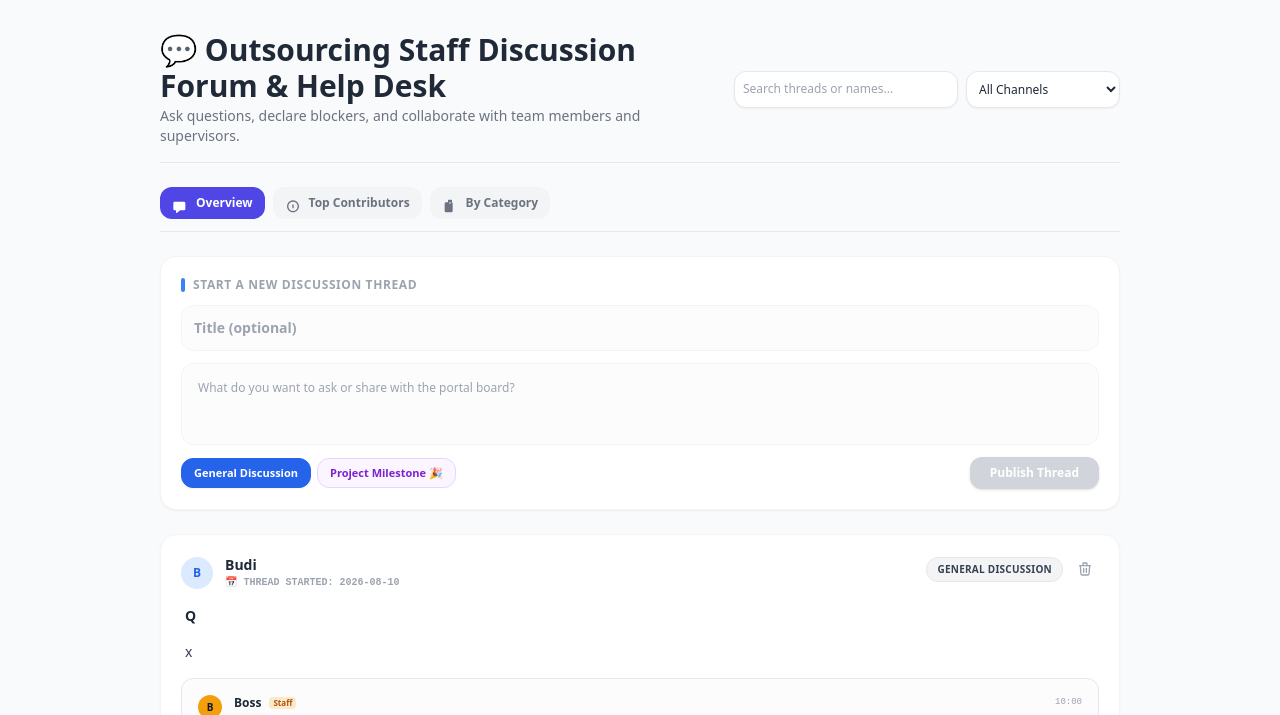
Test: ContributionsView › the Top Contributors tab ranks users by threads + replies
This screenshot has width=1280, height=715.
Click the tab "Top Contributors": {"x": 347, "y": 203} [272,187,422,219]
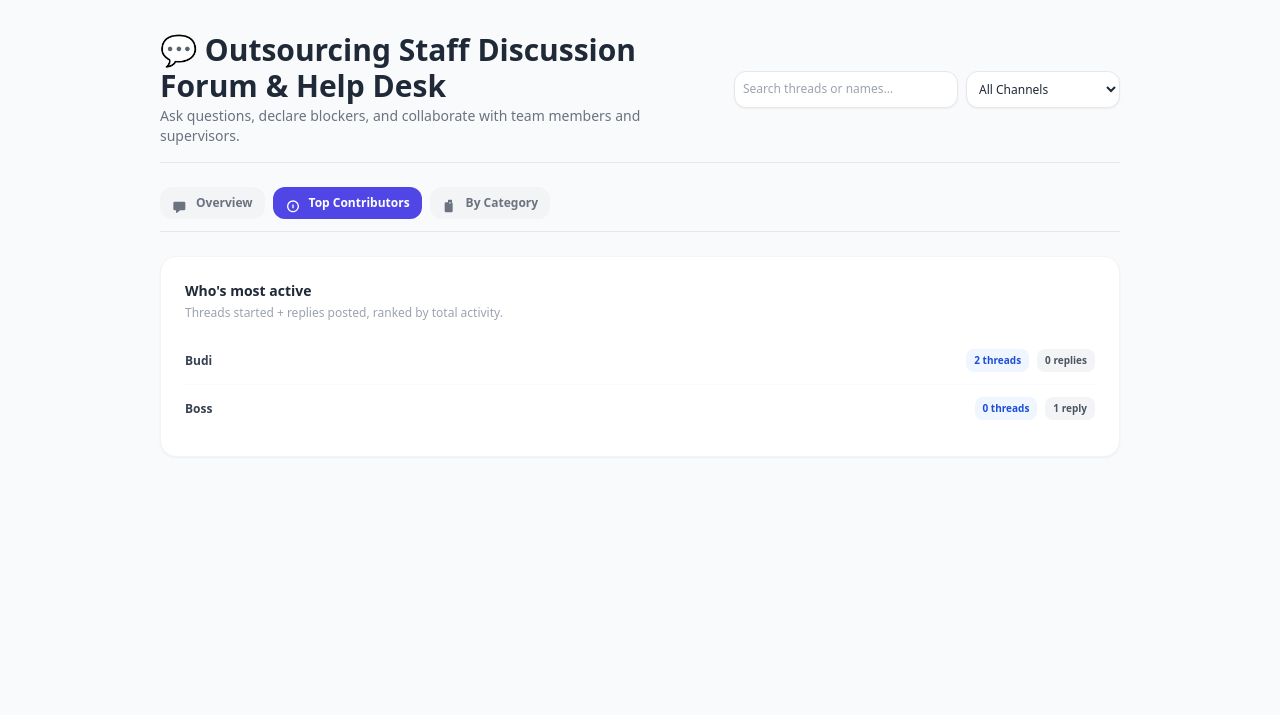
Expected: the text "2 threads" is shown, [966,349,1029,372]
Expected: the text "1 reply" is shown, [1045,397,1095,420]
